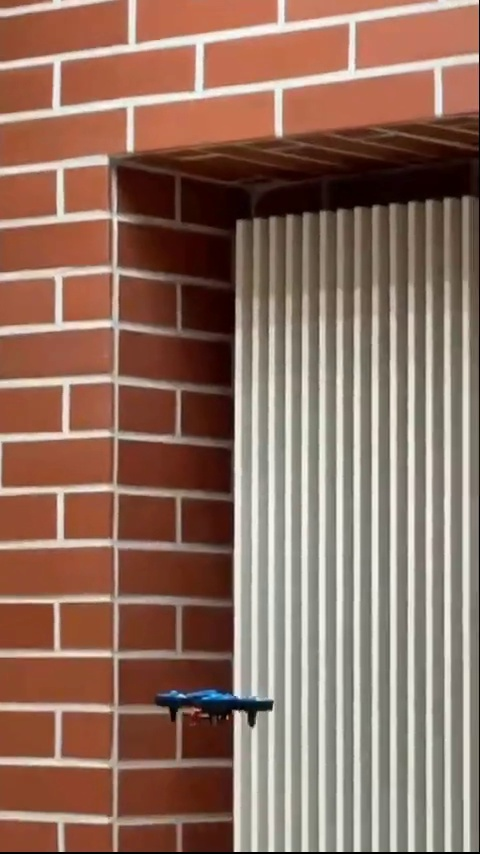drone: (155, 681, 276, 734)
